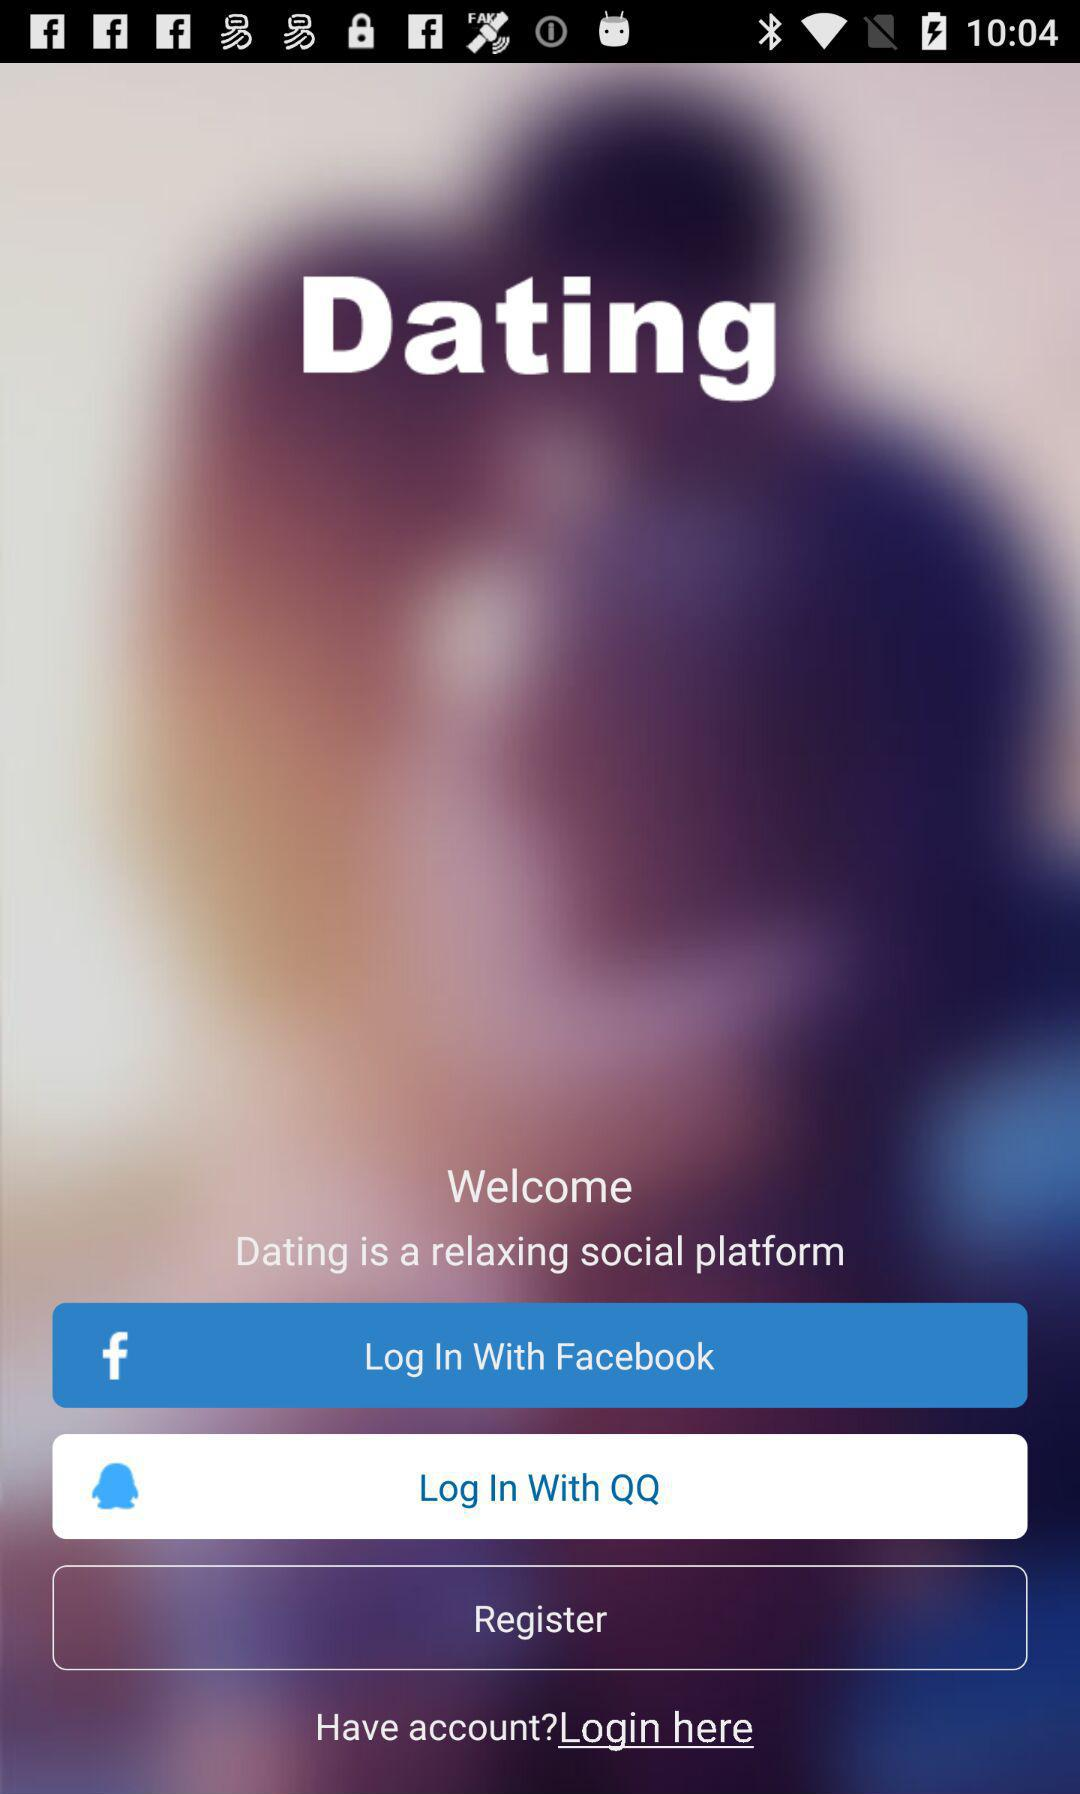BackgroundImage: (1, 64, 1080, 1794)
Text: (301, 274, 778, 404), (237, 1233, 846, 1276), (316, 1709, 756, 1753), (446, 1167, 633, 1205)
TextButton: (53, 1301, 1027, 1410), (53, 1433, 1029, 1540), (53, 1565, 1029, 1672)
UpperTaskBar: (1, 1, 1080, 64)
